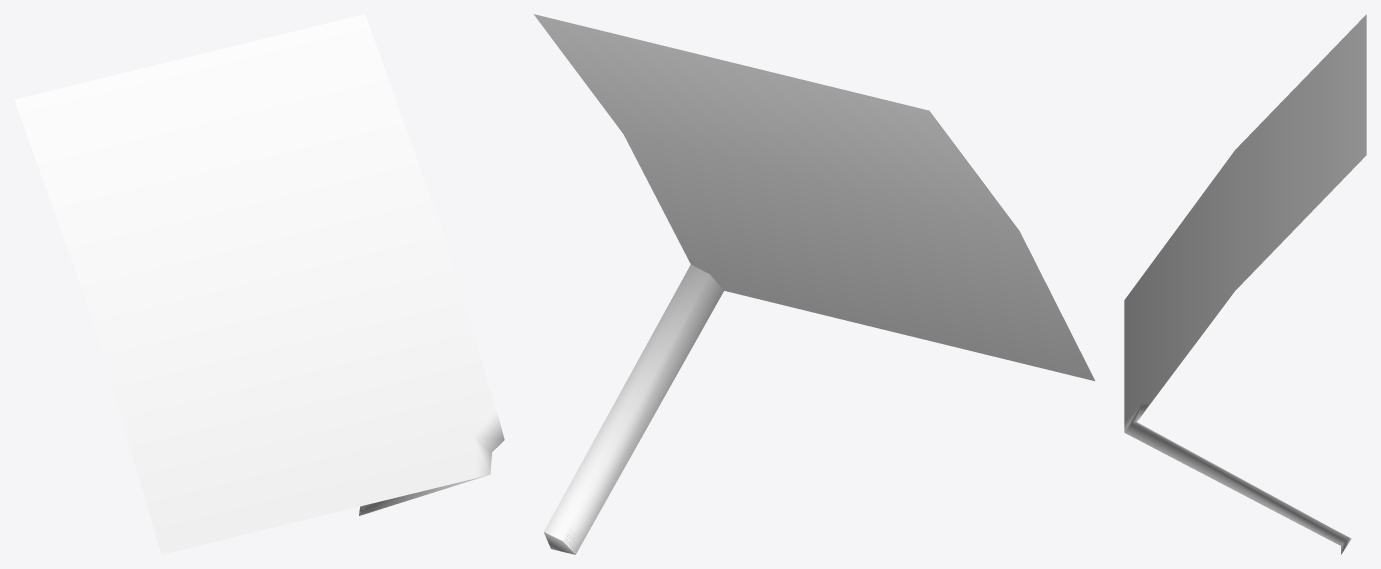
Rendered from grd_Enw_i_0.dae.
3 views of the same model, side by side, from view 1: azimuth 30°, elevation 25°; view 2: azimuth 150°, elevation 25°; view 3: azimuth 270°, elevation 25° (orthographic). The views are drawn at different scales.
Visible parts, largest first — view 1: grass_1_0, cliff_0_0; view 2: grass_1_0, cliff_0_0; view 3: grass_1_0, cliff_0_0.
Boxes of the visible parts, x1,y1,x2,y2 form: grass_1_0: [14, 14, 496, 554]; cliff_0_0: [359, 411, 504, 515]; grass_1_0: [533, 14, 1094, 554]; cliff_0_0: [544, 264, 723, 554]; grass_1_0: [1124, 14, 1366, 554]; cliff_0_0: [1124, 402, 1347, 545].
Bounding box in the file's own units: 128 × 169 × 92.96.
Materials: 2 (1 with a texture image).
